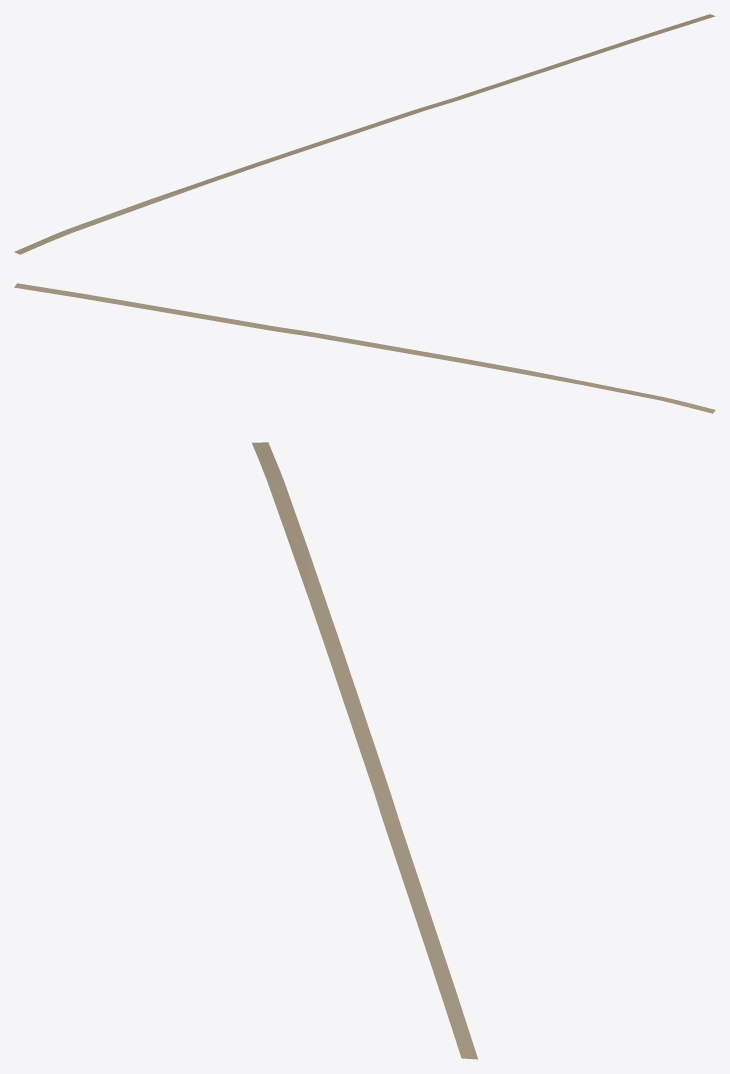
The model's file is farm_28_18_track.glb.
3 renders of one model, top to bottom at view 1: azimuth 30°, elevation 25°; view 2: azimuth 150°, elevation 25°; view 3: azimuth 270°, elevation 25°, orthographic. The views are drawn at different scales.
Visible parts, largest first — view 1: geometry_0; view 2: geometry_0; view 3: geometry_0.
Boxes of the visible parts, x1,y1,x2,y2 form: geometry_0: (14, 14, 715, 254); geometry_0: (14, 283, 715, 413); geometry_0: (252, 442, 478, 1059).
Bounding box in the file's own units: 290 × 3.98 × 43.96.
